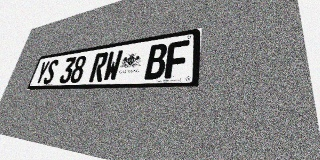3: (58, 57, 77, 83)
8: (69, 55, 88, 83)
B: (144, 43, 168, 80)
F: (164, 40, 189, 79)
R: (89, 52, 109, 82)
S: (42, 59, 59, 84)
W: (102, 50, 123, 82)
Y: (34, 61, 51, 85)
